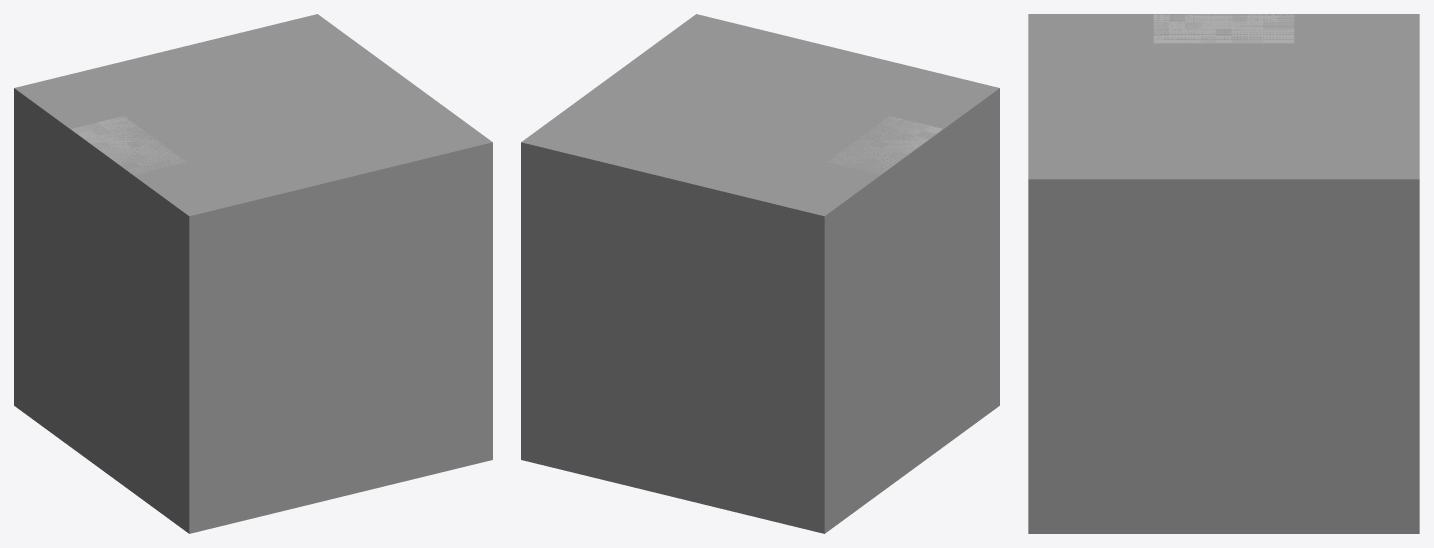
File: ElectricalFuse.obj
The picture shows the model from 3 angles, left to right: view 1: azimuth 30°, elevation 25°; view 2: azimuth 150°, elevation 25°; view 3: azimuth 270°, elevation 25°; orthographic projection. The views are drawn at different scales.
Visible parts, largest first — view 1: Minecraft_Block_Cube.004, Minecraft_2_Edge_Connectivity_Cube.002, Case; view 2: Minecraft_Block_Cube.004, Minecraft_2_Edge_Connectivity_Cube.002, Case; view 3: Minecraft_Block_Cube.004, Case.
Part boxes in pixels (x1,y1,x2,y2): Minecraft_Block_Cube.004: [14, 14, 492, 533]; Minecraft_2_Edge_Connectivity_Cube.002: [14, 88, 339, 533]; Case: [71, 116, 185, 174]; Minecraft_Block_Cube.004: [521, 14, 999, 533]; Minecraft_2_Edge_Connectivity_Cube.002: [674, 88, 999, 533]; Case: [827, 116, 942, 174]; Minecraft_Block_Cube.004: [1028, 14, 1419, 533]; Case: [1153, 14, 1294, 43].
Size of the model in its own units: 1 by 1 by 1.
Materials: 2 (1 with a texture image).
